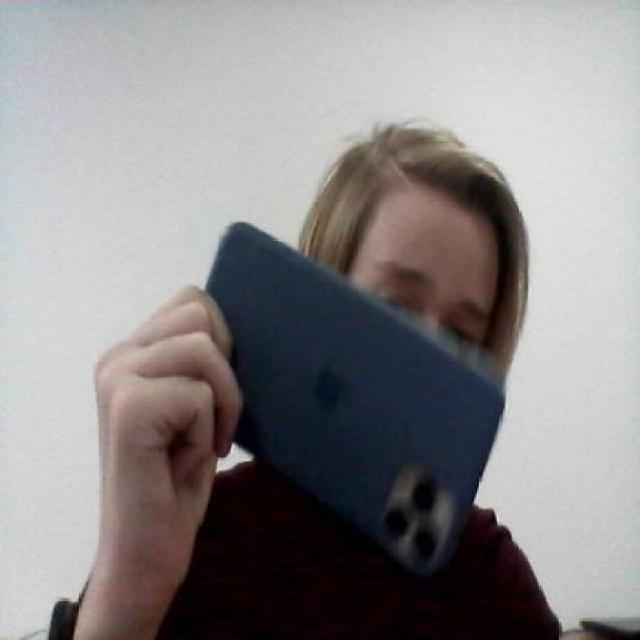mobile: (172, 205, 508, 589)
